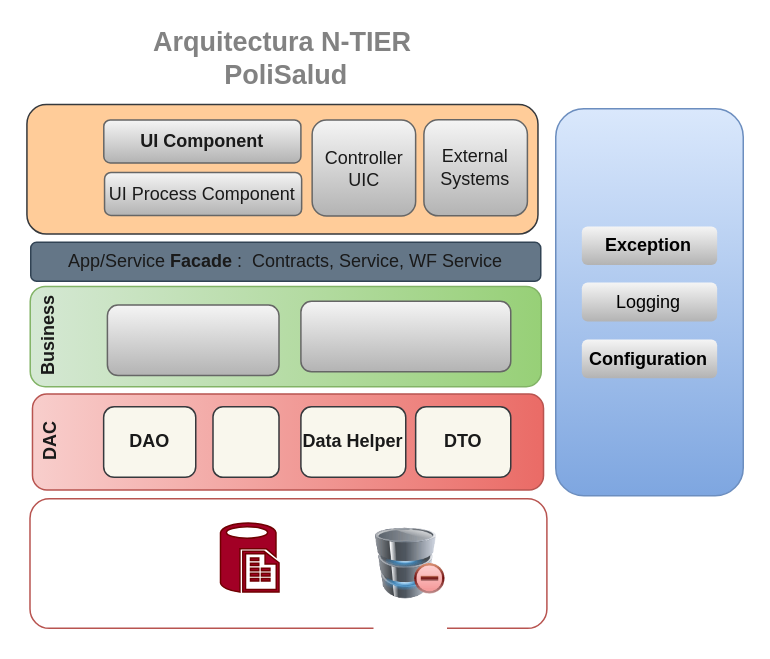
Image size: 770x659. Some labels were removed from this diagram. Here are the shapes that lost their labels. From the top down, the box of each, then its label:
(26, 103, 538, 234): User Interface
(554, 107, 743, 496): Framework
(106, 304, 279, 376): Business Logic
(299, 300, 511, 372): Business Entities
(212, 405, 279, 477): IDAO
(219, 522, 279, 592): SQLITE
(28, 497, 547, 628): Data Sources
